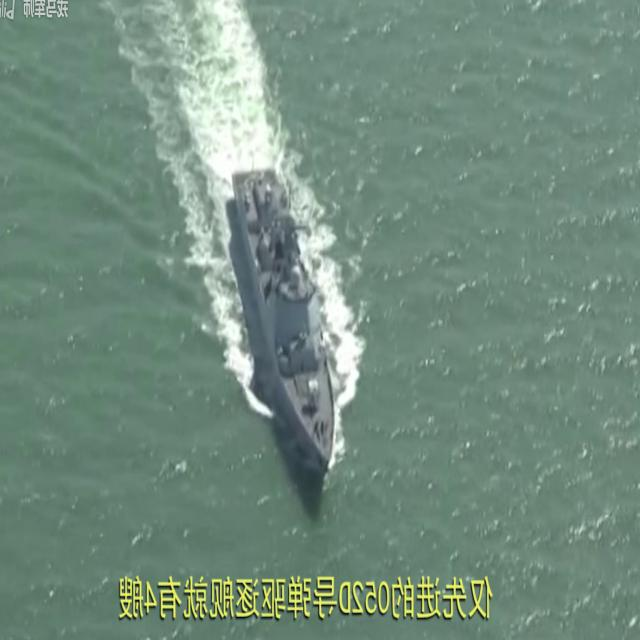navalvessels: (234, 152, 339, 471)
